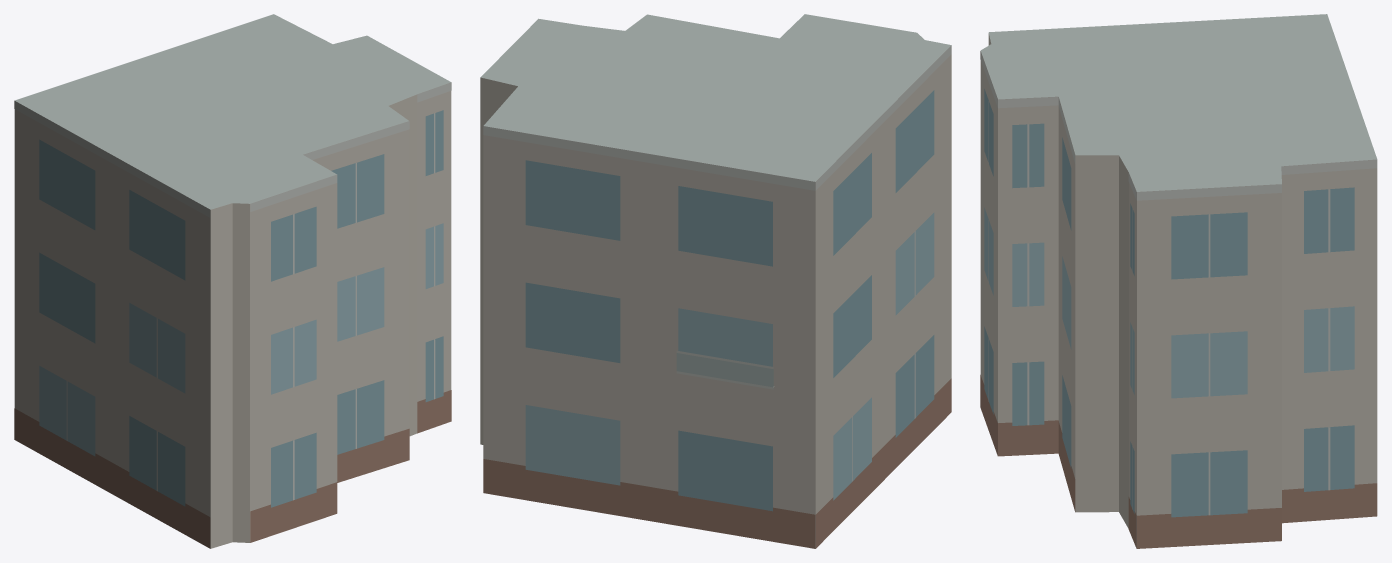
File: survey-upis-32618327.glb
3 views of the same model, side by side, from view 1: azimuth 30°, elevation 25°; view 2: azimuth 150°, elevation 25°; view 3: azimuth 270°, elevation 25° (orthographic). The views are drawn at different scales.
Parts seen in each view (by area): view 1: survey-upis-32618327.tmp; view 2: survey-upis-32618327.tmp; view 3: survey-upis-32618327.tmp.
Part boxes in pixels (bbox=[...]): survey-upis-32618327.tmp: bbox=[14, 14, 451, 548]; survey-upis-32618327.tmp: bbox=[480, 14, 951, 548]; survey-upis-32618327.tmp: bbox=[980, 14, 1377, 548].
Bounding box in the file's own units: 10.6 × 9.9 × 9.99.
